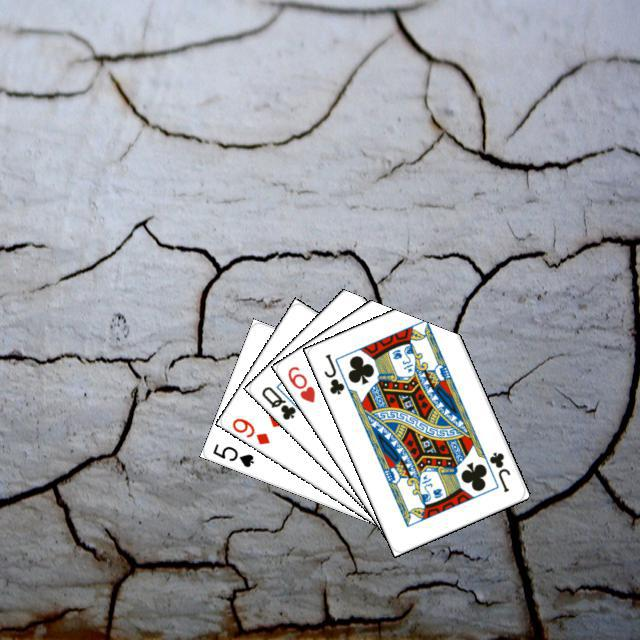5s: (208, 438, 256, 469)
6h: (282, 361, 317, 404)
9d: (227, 413, 272, 446)
Jc: (484, 447, 512, 494), (319, 349, 346, 396)
Qc: (256, 379, 305, 422)
